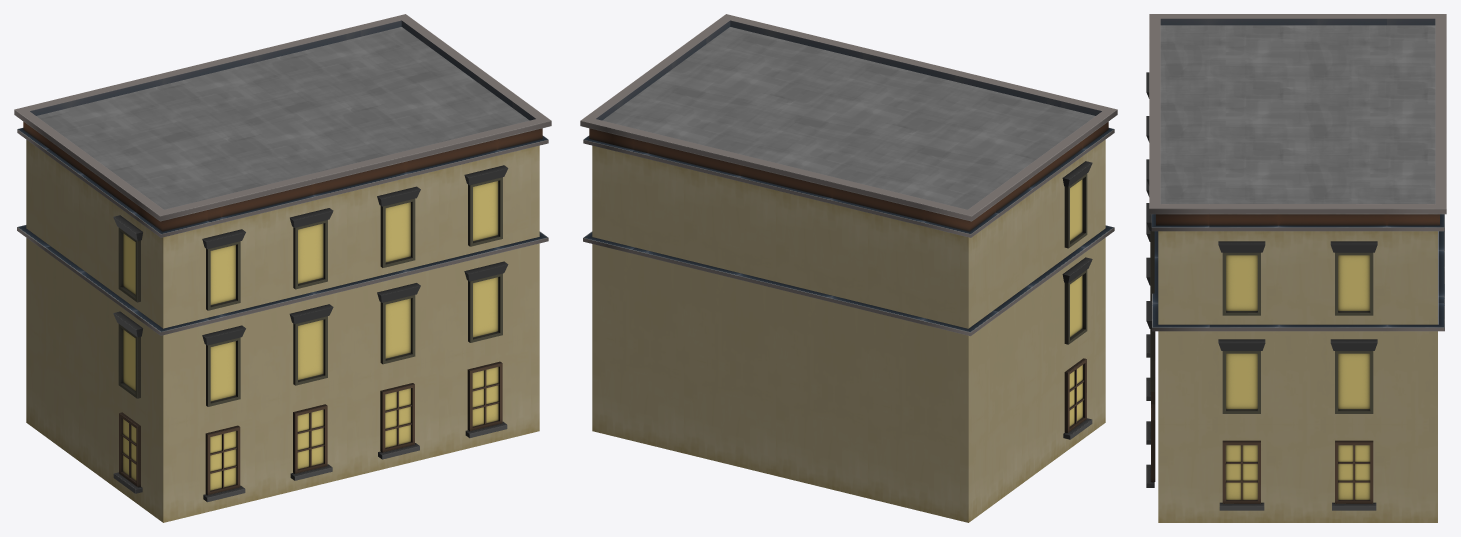
The model's file is NBR_building_b.FBX.
The picture shows the model from 3 angles, left to right: view 1: azimuth 30°, elevation 25°; view 2: azimuth 150°, elevation 25°; view 3: azimuth 270°, elevation 25°; orthographic projection.
Parts seen in each view (by area): view 1: building_b; view 2: building_b; view 3: building_b.
Boxes of the visible parts, x1=… form: building_b: x1=14, y1=14, x2=551, y2=522; building_b: x1=580, y1=14, x2=1117, y2=522; building_b: x1=1146, y1=14, x2=1446, y2=522.
Size of the model in its own units: 1277 by 972 by 832.
Materials: 4 (4 with a texture image).
